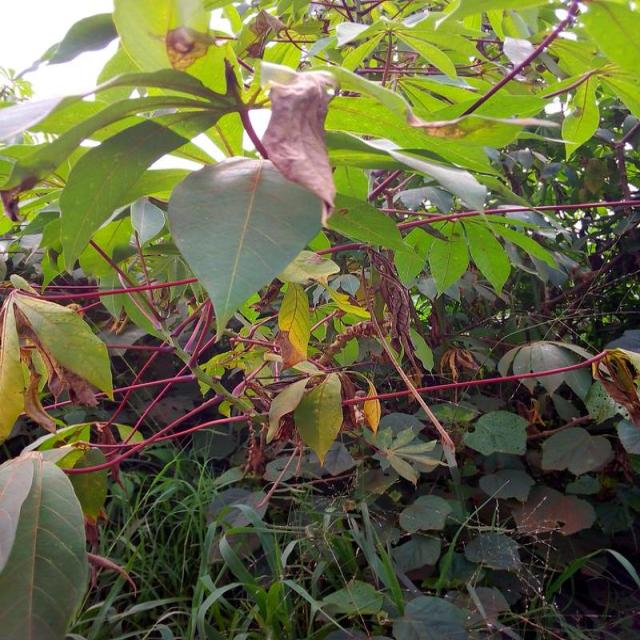cassava leaf: (167, 154, 325, 342), (1, 450, 90, 638), (294, 371, 344, 466)
